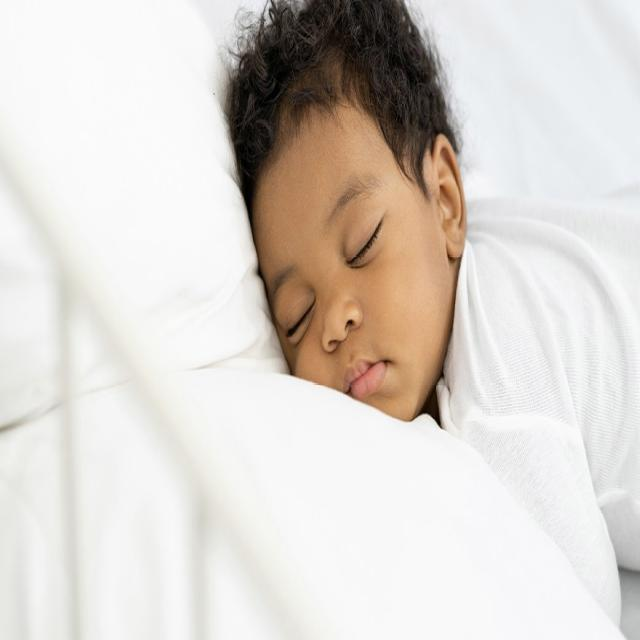child: (218, 1, 640, 628)
